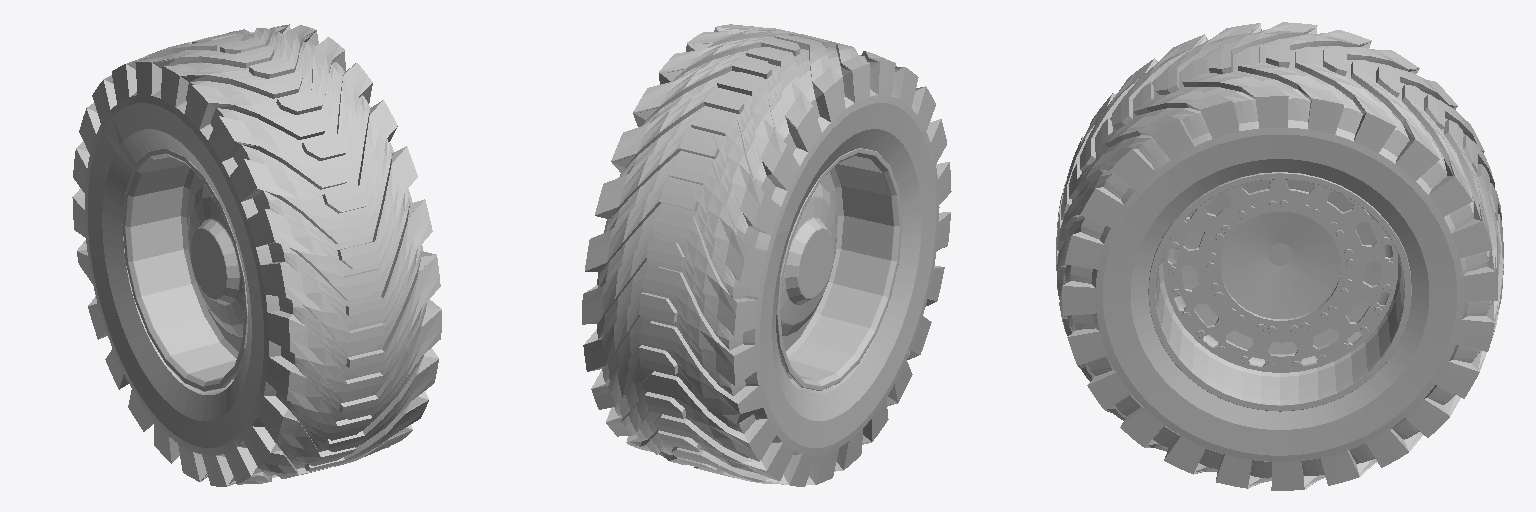
The model's file is tire2.obj.
3 views of the same model, side by side, from view 1: azimuth 30°, elevation 25°; view 2: azimuth 150°, elevation 25°; view 3: azimuth 270°, elevation 25° (orthographic).
Visible parts, largest first — view 1: tire; view 2: tire; view 3: tire.
Boxes of the visible parts, x1=… form: tire: x1=72, y1=24, x2=441, y2=486; tire: x1=582, y1=24, x2=951, y2=486; tire: x1=1056, y1=22, x2=1503, y2=490.
Bounding box in the file's own units: 1.25 × 3.01 × 3.01.